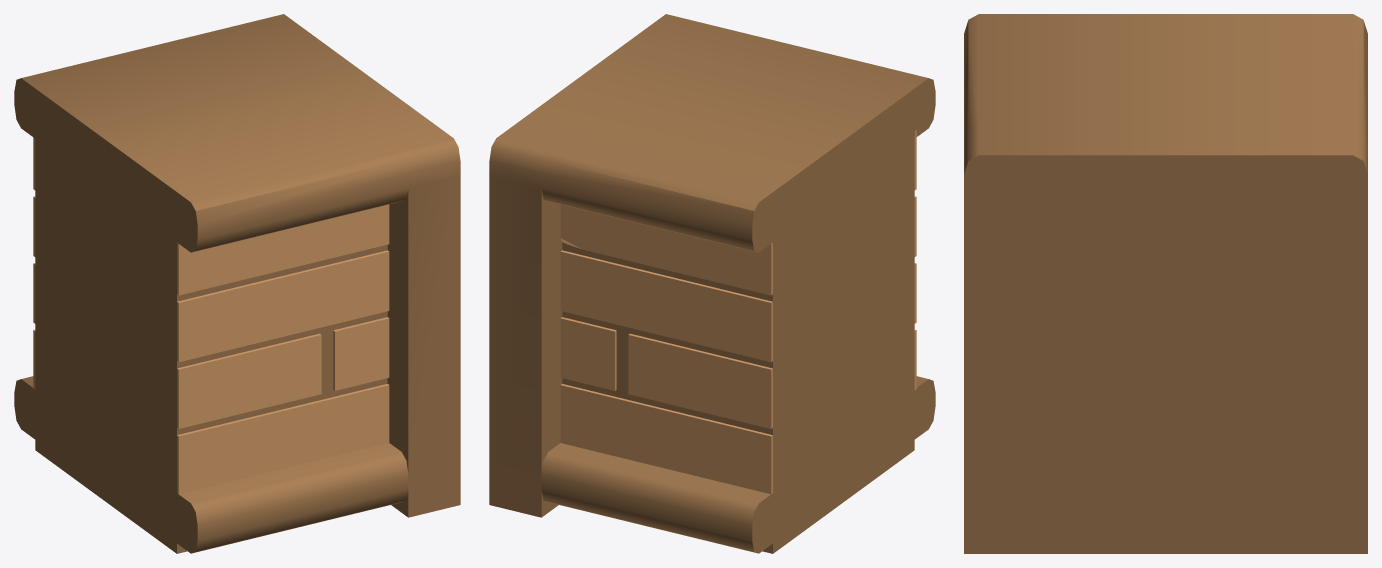
Rendered from Counter End.glb.
3 views of the same model, side by side, from view 1: azimuth 30°, elevation 25°; view 2: azimuth 150°, elevation 25°; view 3: azimuth 270°, elevation 25° (orthographic). The views are drawn at different scales.
Visible parts, largest first — view 1: Environment_Counter_End; view 2: Environment_Counter_End; view 3: Environment_Counter_End.
Boxes of the visible parts, x1,y1,x2,y2 form: Environment_Counter_End: (14,14,460,553); Environment_Counter_End: (489,14,935,553); Environment_Counter_End: (964,14,1367,553).
Bounding box in the file's own units: 1.46 × 1.92 × 1.77.
Materials: 1 (1 with a texture image).
